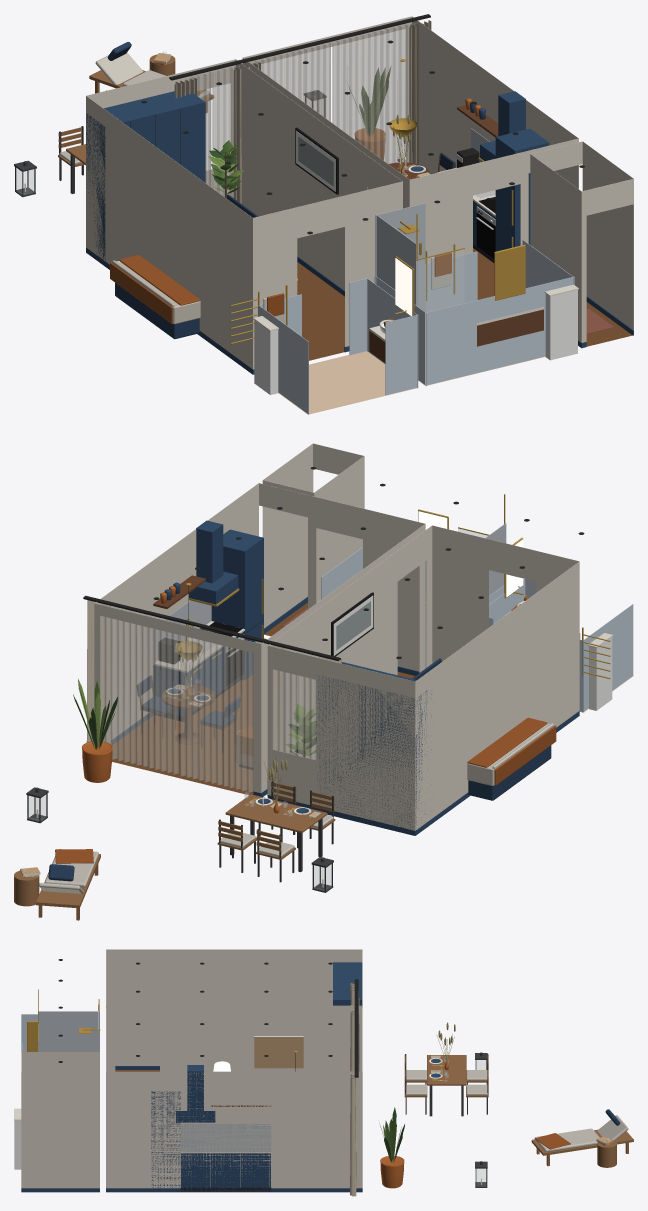
The model's file is unit-0.A-lisboa.glb.
3 renders of one model, top to bottom at view 1: azimuth 30°, elevation 25°; view 2: azimuth 150°, elevation 25°; view 3: azimuth 270°, elevation 25°, orthographic. The views are drawn at different scales.
Parts seen in each view (by area): view 1: int-wall, int-bathWall, int-sheer, int-joineryTall, int-floor, int-bathFloor, int-whiteGloss, int-showerWall, int-metal, int-glass, int-curtain, int-joinery (+16 smaller); view 2: int-wall, int-sheer, int-joineryTall, int-floor, int-joinery, int-teak, int-bathWall, int-curtain, int-bedThrow, int-outdoor, int-matteBlack, int-outCushion (+13 smaller); view 3: int-wall, int-joinery, int-joineryTall, int-splash, int-teak, int-showerWall, int-outCushion, int-art:3:0, int-curtain, int-matteBlack, int-outdoor, int-pot (+2 smaller).
Part boxes in pixels (x1,y1,x2,y2): int-wall: (86,16,633,369); int-bathWall: (257,240,574,414); int-sheer: (186,23,412,197); int-joineryTall: (86,91,549,266); int-floor: (297,248,494,360); int-bathFloor: (278,351,545,414); int-whiteGloss: (254,290,577,394); int-showerWall: (375,203,425,311); int-metal: (230,59,525,344); int-glass: (16,168,464,312); int-curtain: (174,20,431,203); int-joinery: (86,91,633,374); int-wall: (94,443,579,830); int-sheer: (100,615,316,792); int-joineryTall: (211,529,433,834); int-floor: (112,638,414,794); int-joinery: (111,520,579,835); int-teak: (14,782,335,920); int-bathWall: (321,547,633,712); int-curtain: (86,600,341,795); int-bedThrow: (467,717,556,785); int-outdoor: (26,781,333,892); int-matteBlack: (83,595,340,721); int-outCushion: (38,815,333,893); int-wall: (21,949,362,1188); int-joinery: (21,1065,362,1192); int-joineryTall: (151,962,362,1191); int-splash: (180,1124,271,1151); int-teak: (404,1055,633,1167); int-showerWall: (38,1011,99,1051); int-outCushion: (405,1070,628,1152); int-art:3:0: (254,1037,303,1068); int-curtain: (350,983,356,1196); int-matteBlack: (180,979,358,1192); int-outdoor: (405,1052,488,1187); int-pot: (380,1156,404,1188).
Size of the model in its own units: 6.62 by 2.92 by 12.54.
